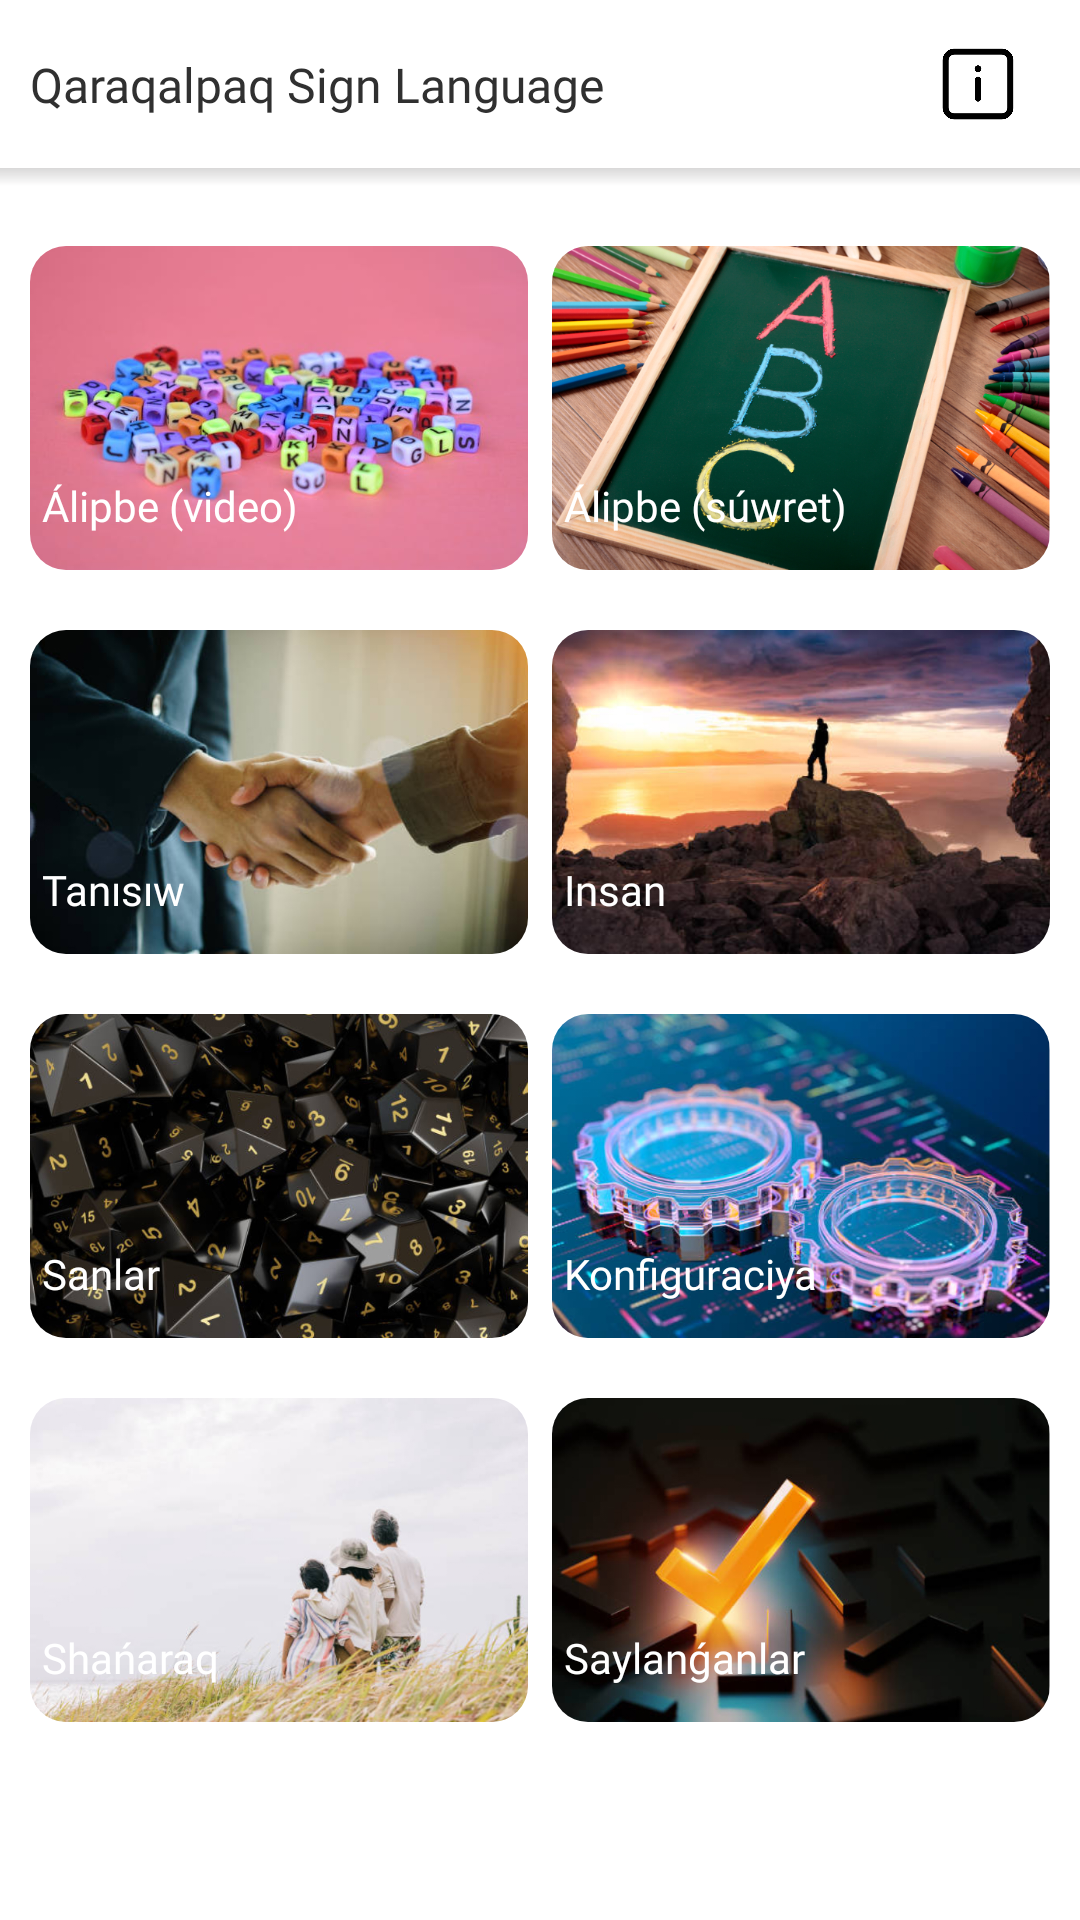

Screen size 1080w x 1920h. Icon name, then its box in pixels as (x1=x1, y1=y1, x2=x2, y2=y2):
information: (x1=942, y1=48, x2=1014, y2=120)
